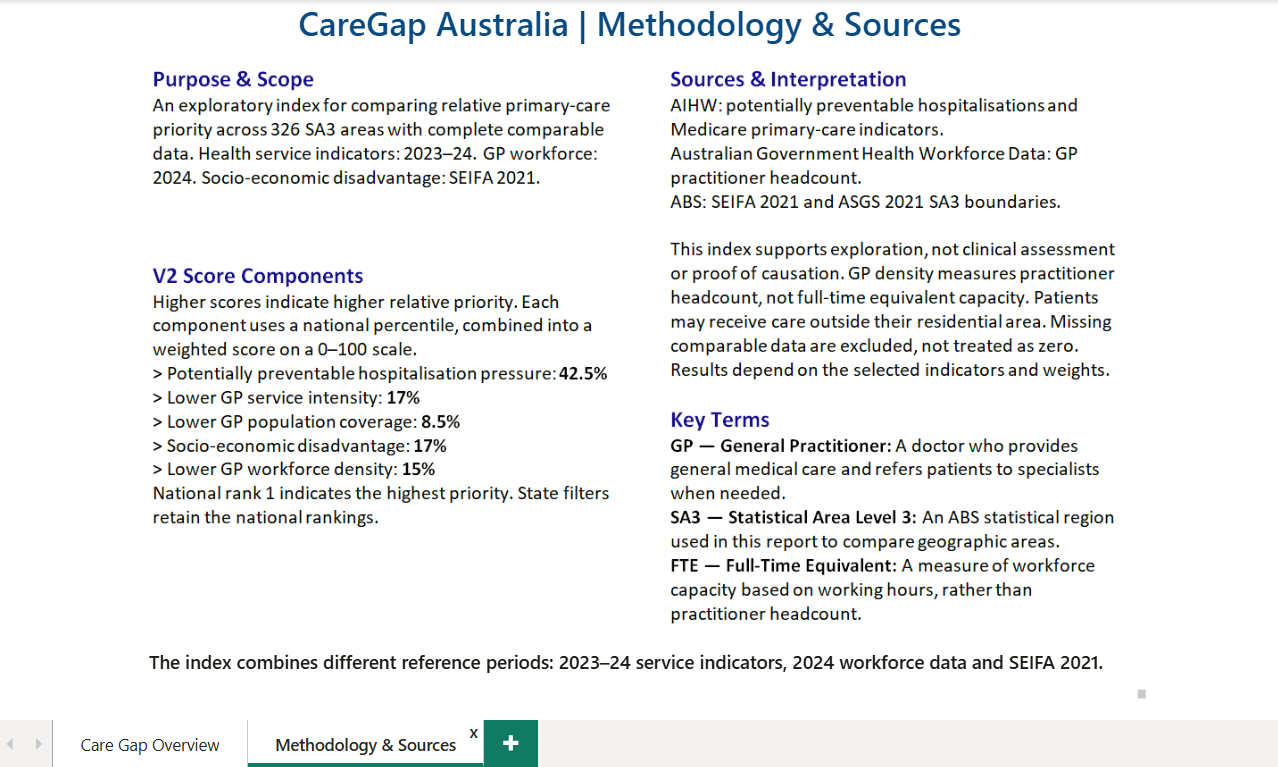

The dashboard page shown, as its layout file describes it:
{"tool":"powerbi","page":{"name":"Methodology & Sources","canvas":[1280,720],"ordinal":1},"visuals":[{"type":"textbox","title":"CareGap Australia | Methodology & Sources","box":[172.3,0,918.1,46.6],"z":0},{"type":"image","box":[42.6,60.5,1193.7,554.2],"z":1},{"type":"textbox","title":"The index combines different reference periods: 2023–24 service indicators, 2024 workforce data and SEIFA 2021.","box":[111.4,649.1,1153.9,49.5],"z":2}]}

Visuals, with their boxes on the page's 1280x720 design canvas (x1, y1, x2, y2). These are canvas units, not pixel positions in the 1278x767 screenshot, which may show the page scaled, cropped or inside an application window:
"CareGap Australia | Methodology & Sources" textbox: (left=172, top=0, right=1090, bottom=47)
image: (left=43, top=60, right=1236, bottom=615)
"The index combines different reference periods: 2023–24 service indicators, 2024 workforce data and SEIFA 2021." textbox: (left=111, top=649, right=1265, bottom=699)
